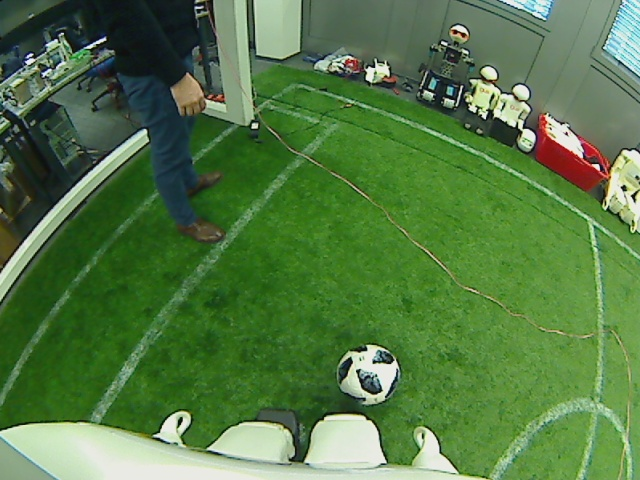ball: (333, 343, 401, 407)
